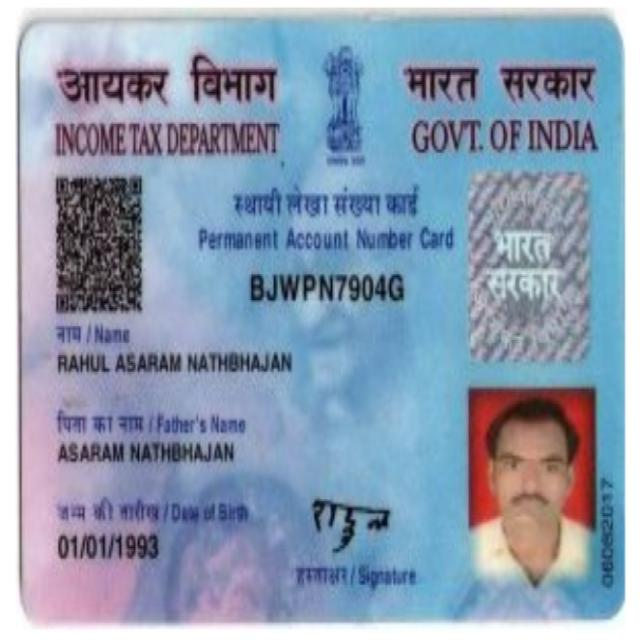pan_card: (23, 25, 624, 617)
